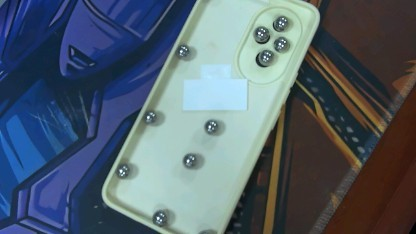ironball: (113, 161, 132, 183), (255, 46, 277, 65), (249, 22, 267, 44), (172, 40, 192, 59), (272, 33, 289, 55), (180, 150, 199, 168), (141, 107, 159, 126), (203, 117, 220, 136), (272, 15, 289, 31), (152, 209, 169, 224)
